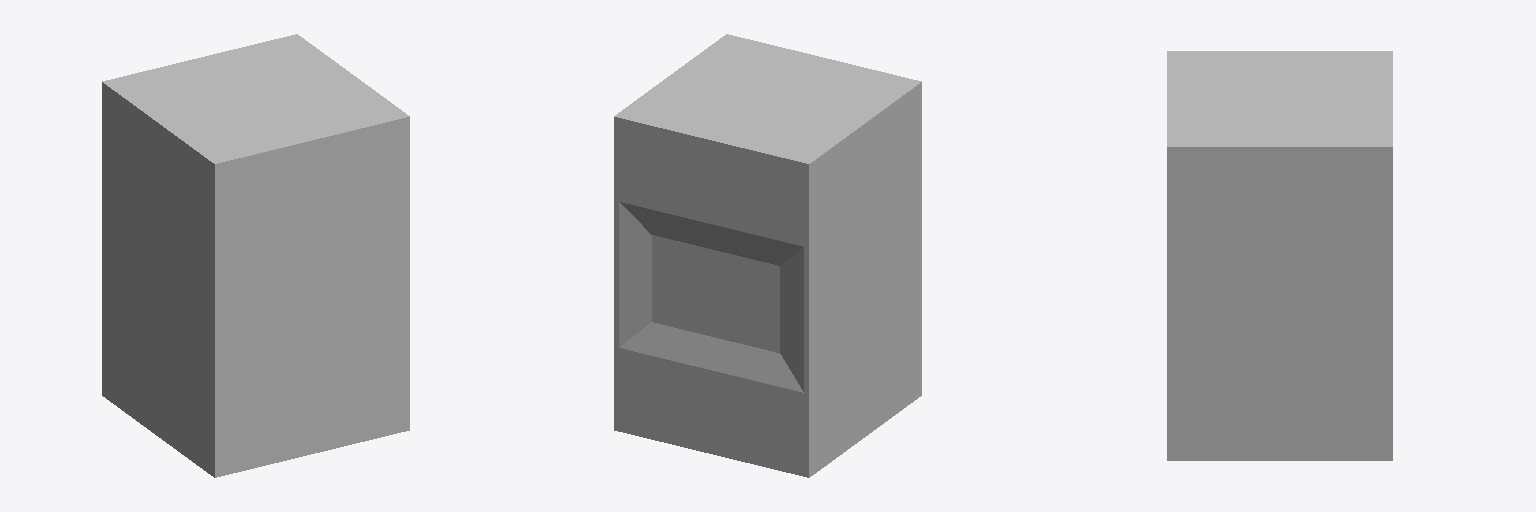
File: tile1.obj
3 views of the same model, side by side, from view 1: azimuth 30°, elevation 25°; view 2: azimuth 150°, elevation 25°; view 3: azimuth 270°, elevation 25° (orthographic).
Parts seen in each view (by area): view 1: Plane; view 2: Plane; view 3: Plane.
Boxes of the visible parts, <box> form: Plane: <box>102,34,409,477</box>; Plane: <box>614,34,921,477</box>; Plane: <box>1167,51,1392,460</box>.
Bounding box in the file's own units: 32 × 49.05 × 32.